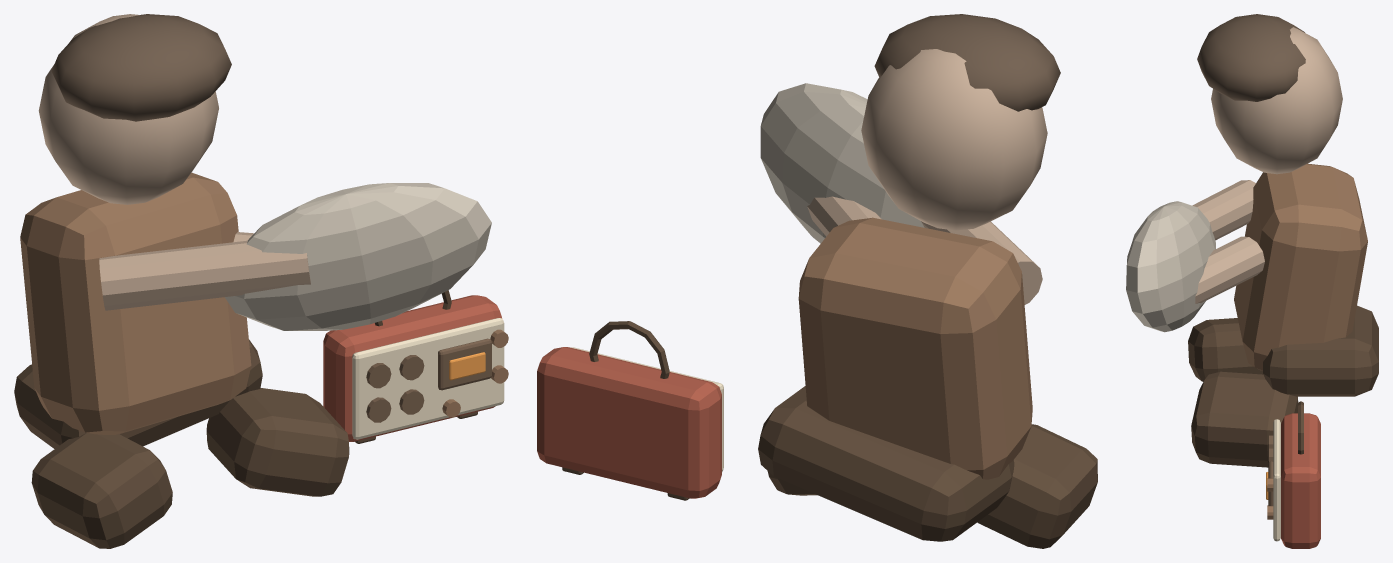
The model's file is seated-figure-with-cushion-and-radio.glb.
The picture shows the model from 3 angles, left to right: view 1: azimuth 30°, elevation 25°; view 2: azimuth 150°, elevation 25°; view 3: azimuth 270°, elevation 25°; orthographic projection. The views are drawn at different scales.
Visible parts, largest first — view 1: Torso, Cushion, HairCap, Head, LegLeft, LegRight, ArmLeft, RadioFace, Radio, Hip, Display, DisplayGlow; view 2: Torso, Head, Radio, Hip, Cushion, HairCap, LegLeft, ArmLeft, ArmRight, RadioHandle; view 3: Torso, Head, Cushion, LegRight, HairCap, Hip, Radio, LegLeft, ArmRight, ArmLeft, RadioFace, RadioHandle.
Boxes of the visible parts, <box> form: Torso: <box>20,172,251,434</box>; Cushion: <box>225,183,491,330</box>; HairCap: <box>51,14,231,121</box>; Head: <box>38,14,218,204</box>; LegLeft: <box>31,433,172,548</box>; LegRight: <box>206,388,349,496</box>; ArmLeft: <box>99,240,310,310</box>; RadioFace: <box>352,318,504,439</box>; Radio: <box>323,295,501,441</box>; Hip: <box>14,339,262,448</box>; Display: <box>438,338,491,390</box>; DisplayGlow: <box>449,352,485,380</box>; Torso: <box>798,217,1032,479</box>; Head: <box>861,49,1047,230</box>; Radio: <box>537,347,721,498</box>; Hip: <box>758,386,1014,541</box>; Cushion: <box>760,83,924,243</box>; HairCap: <box>874,14,1060,111</box>; LegLeft: <box>977,424,1097,548</box>; ArmLeft: <box>921,221,1042,304</box>; ArmRight: <box>807,196,881,236</box>; RadioHandle: <box>589,321,669,378</box>; Torso: <box>1234,163,1367,370</box>; Head: <box>1211,27,1342,174</box>; Cushion: <box>1126,201,1215,332</box>; LegRight: <box>1191,371,1298,467</box>; HairCap: <box>1197,14,1305,101</box>; Hip: <box>1263,305,1378,396</box>; Radio: <box>1281,413,1320,548</box>; LegLeft: <box>1188,318,1263,381</box>; ArmRight: <box>1195,236,1264,303</box>; ArmLeft: <box>1192,180,1255,240</box>; RadioFace: <box>1273,419,1280,541</box>; RadioHandle: <box>1298,401,1303,454</box>.
Bounding box in the file's own units: 2.18 × 2.13 × 1.27.
